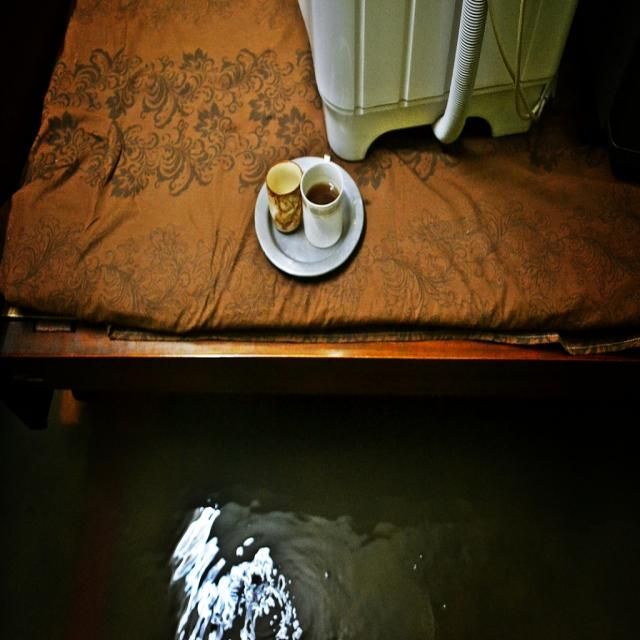Tea: (304, 182, 339, 205)
